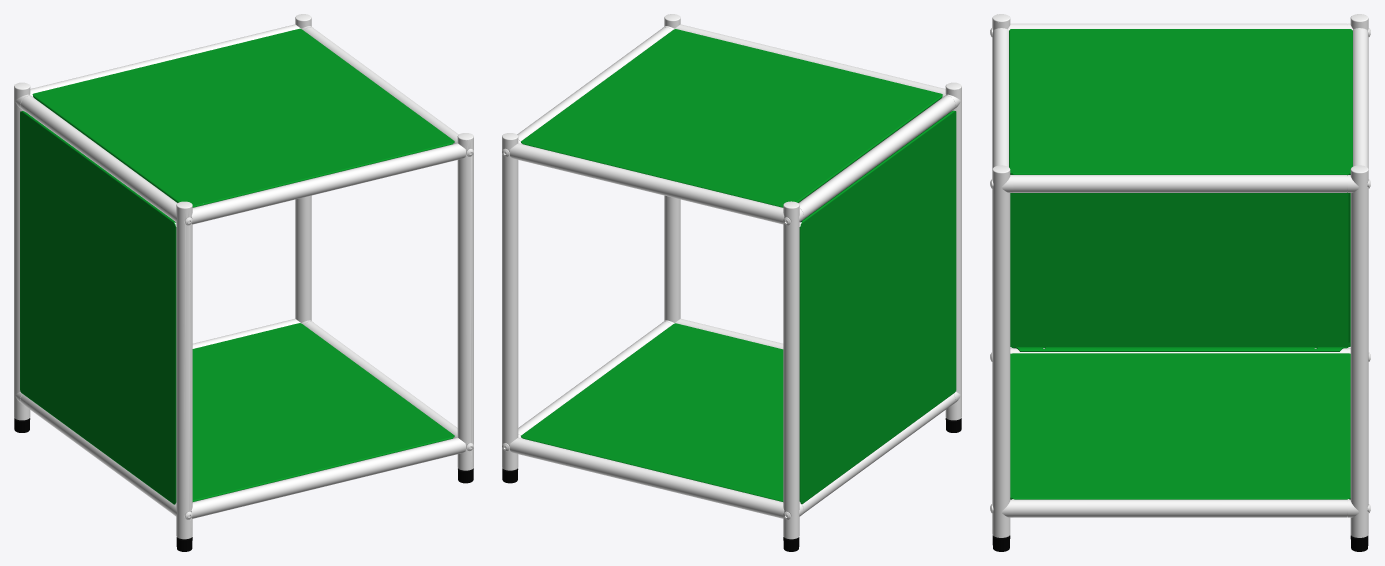
Rendered from 40x40x40-2-2-green_optimized_optimized.glb.
3 views of the same model, side by side, from view 1: azimuth 30°, elevation 25°; view 2: azimuth 150°, elevation 25°; view 3: azimuth 270°, elevation 25° (orthographic). The views are drawn at different scales.
Parts seen in each view (by area): view 1: 直角鐵板-40x40-5 - 零件, 反-鐵管-40-354..4-1 - 零件, 圓形腳+調整器-1 - 零件; view 2: 直角鐵板-40x40-5 - 零件, 反-鐵管-40-354..4-1 - 零件, 圓形腳+調整器-1 - 零件; view 3: 直角鐵板-40x40-5 - 零件, 反-鐵管-40-354..4-1 - 零件, 圓形腳+調整器-1 - 零件.
Part boxes in pixels (box(x1,y1,x2,y2)): 直角鐵板-40x40-5 - 零件: box(20, 28, 454, 504); 反-鐵管-40-354..4-1 - 零件: box(14, 14, 473, 539); 圓形腳+調整器-1 - 零件: box(14, 418, 473, 551); 直角鐵板-40x40-5 - 零件: box(521, 29, 956, 504); 反-鐵管-40-354..4-1 - 零件: box(502, 14, 961, 539); 圓形腳+調整器-1 - 零件: box(502, 418, 961, 551); 直角鐵板-40x40-5 - 零件: box(1009, 29, 1352, 499); 反-鐵管-40-354..4-1 - 零件: box(990, 14, 1370, 537); 圓形腳+調整器-1 - 零件: box(992, 535, 1368, 551).
Size of the model in its own units: 0.3992 by 0.4453 by 0.4035.
